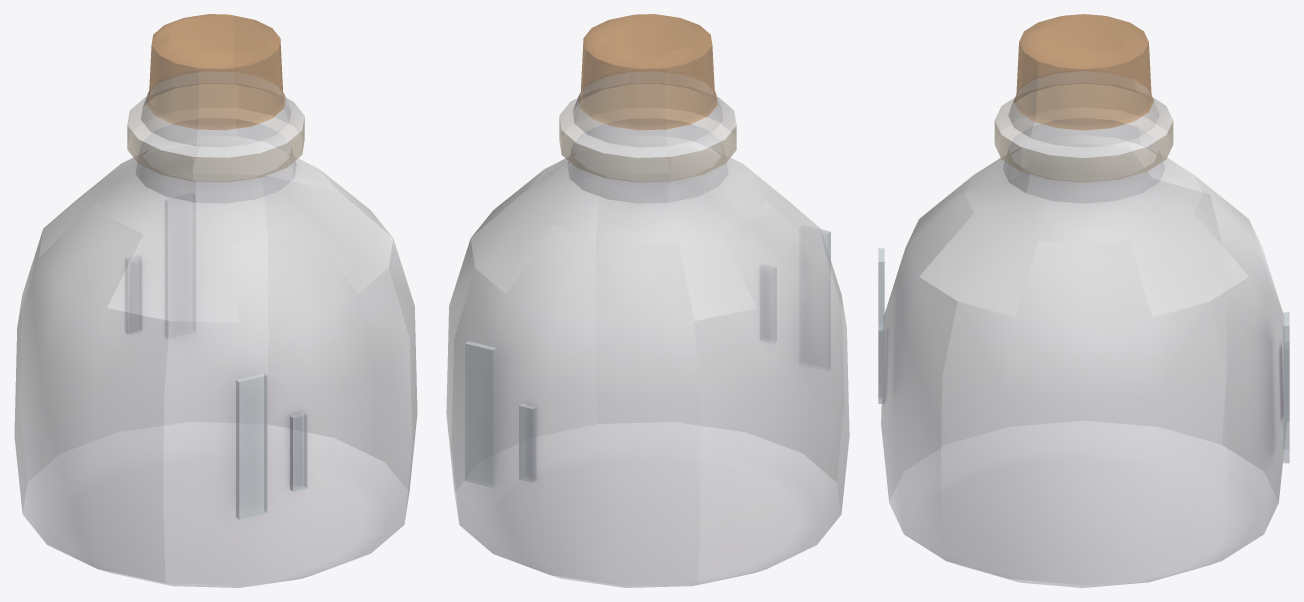
Rendered from sise.glb.
The picture shows the model from 3 angles, left to right: view 1: azimuth 30°, elevation 25°; view 2: azimuth 150°, elevation 25°; view 3: azimuth 270°, elevation 25°; orthographic projection.
Parts seen in each view (by area): view 1: sise; view 2: sise; view 3: sise.
Part boxes in pixels (x1,y1,x2,y2): sise: (14, 14, 417, 587); sise: (446, 14, 849, 587); sise: (878, 14, 1289, 587).
Bounding box in the file's own units: 1.16 × 1.53 × 1.18.
1 material, 1 textured.
